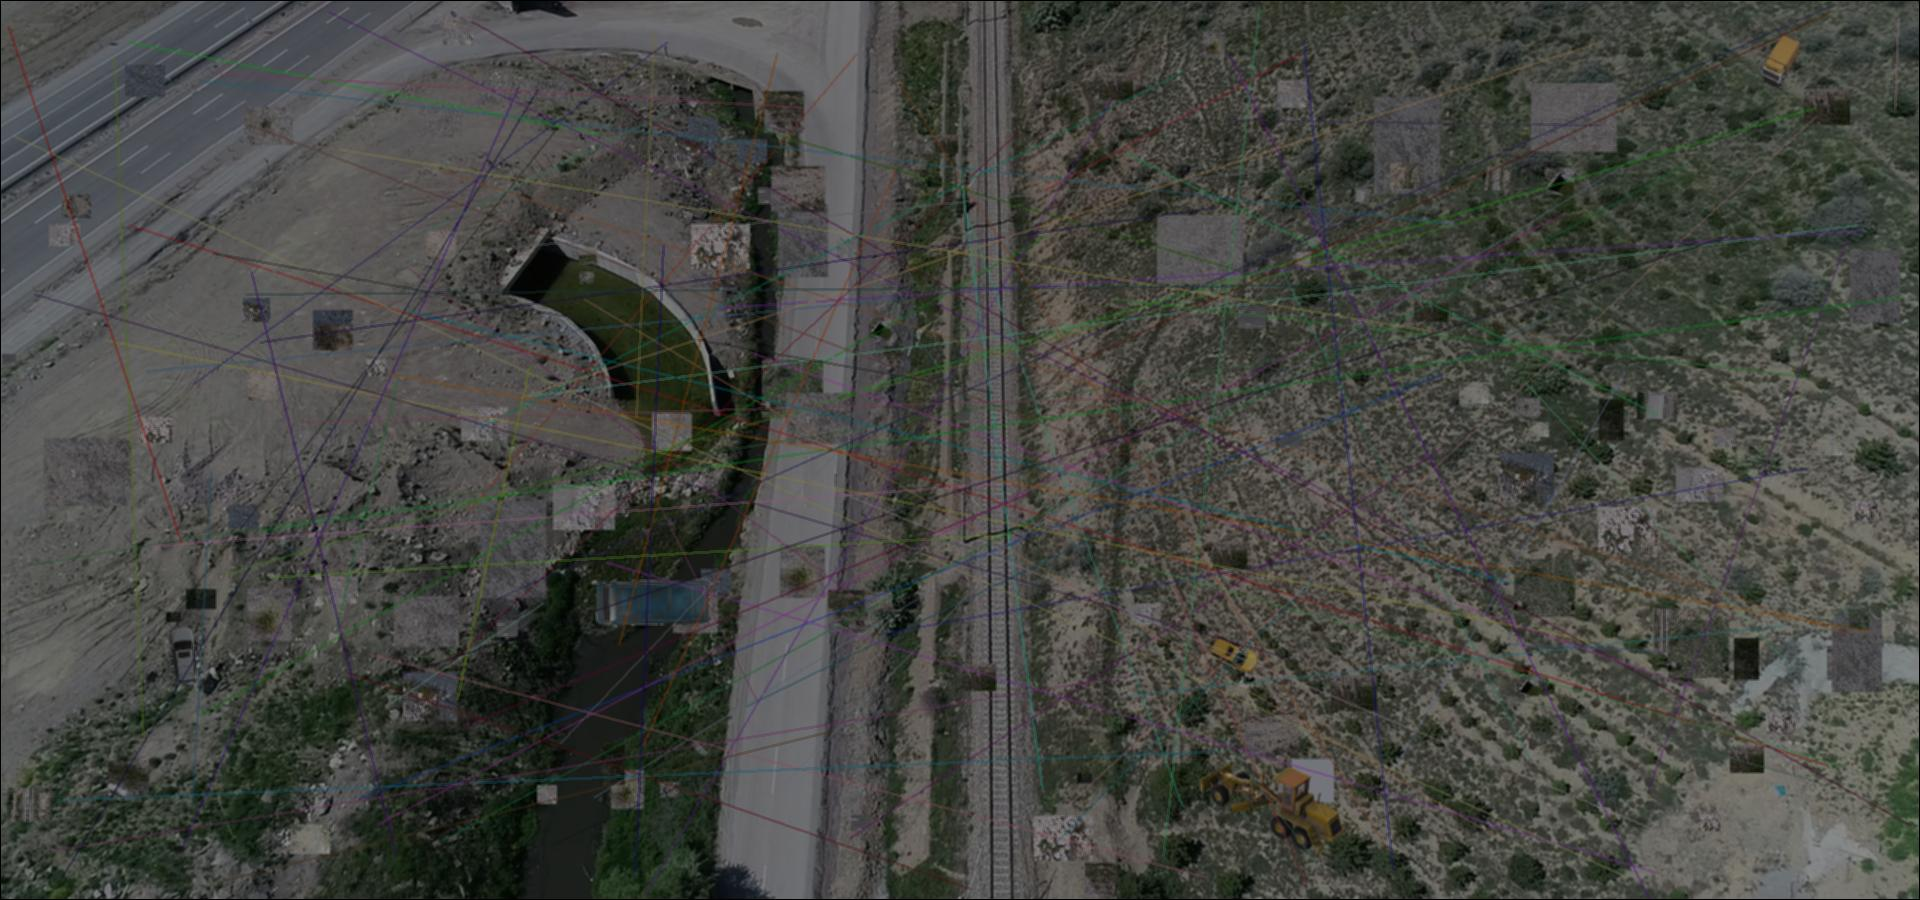arac: (1198, 759, 1351, 856), (594, 578, 711, 628), (1761, 34, 1802, 88), (1205, 634, 1260, 673), (167, 627, 200, 687)
